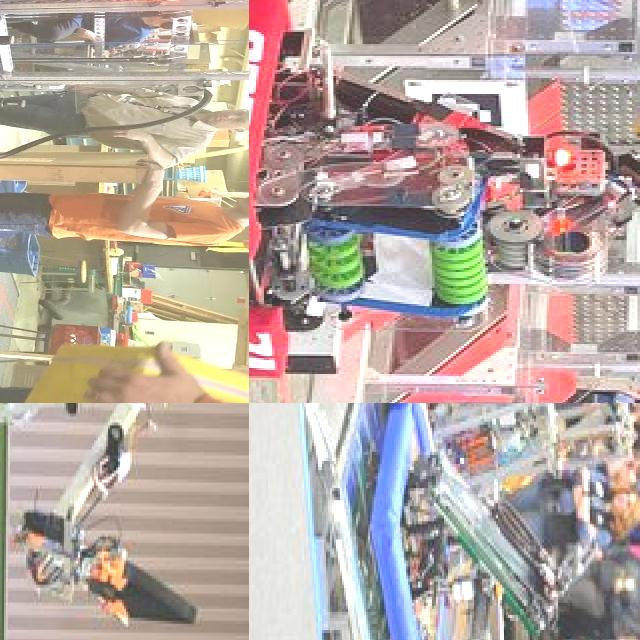FRC-Robots: (249, 0, 640, 403), (0, 403, 199, 640), (372, 431, 559, 640), (0, 0, 249, 156), (378, 403, 590, 528)
